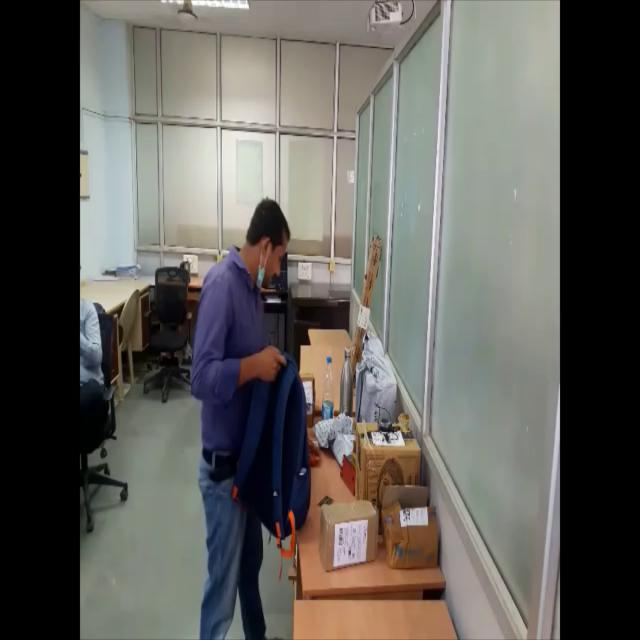shoplifting: (188, 192, 312, 640)
